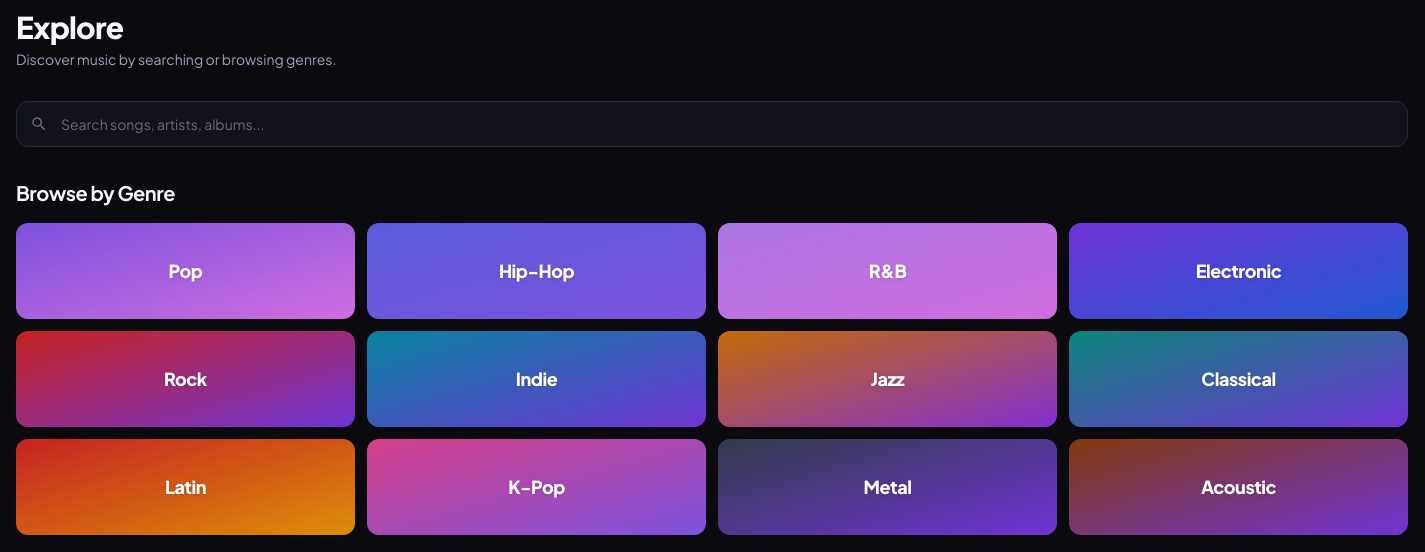
Test: Explore page — initial state › hides genre grid when a query is entered
This screenshot has width=1425, height=552.
Type "beatles" into the field with placeholder "Search songs, artists, albums..." at (712, 124), box [16,101,1408,147]
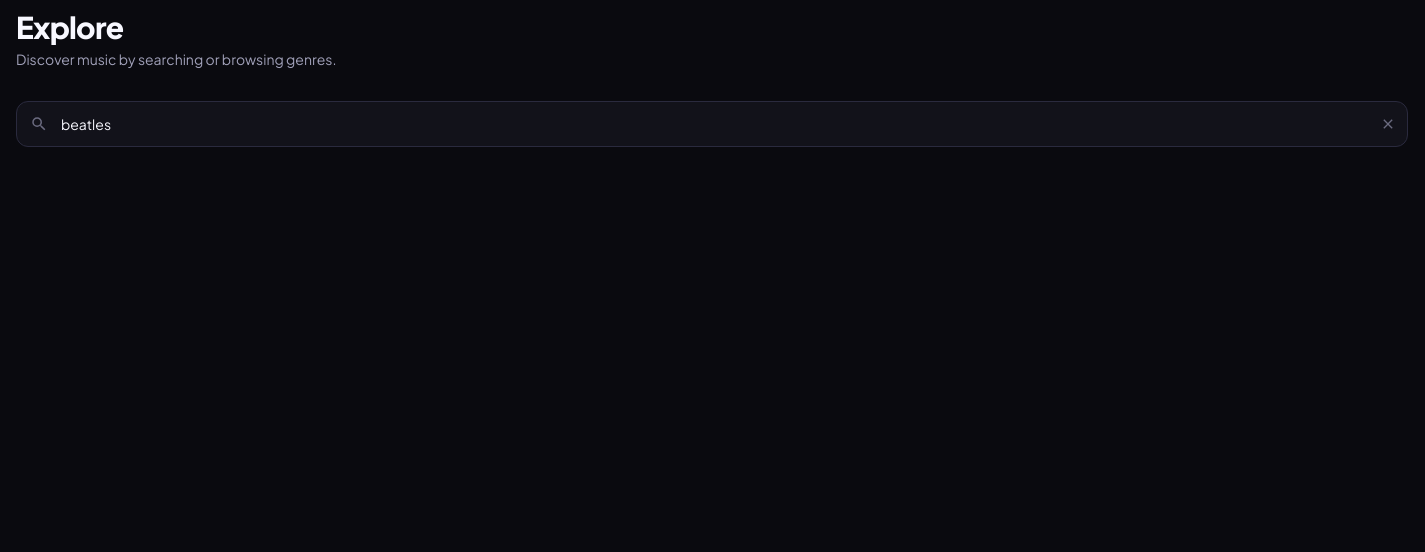
Result: the heading "Browse by Genre" is gone
